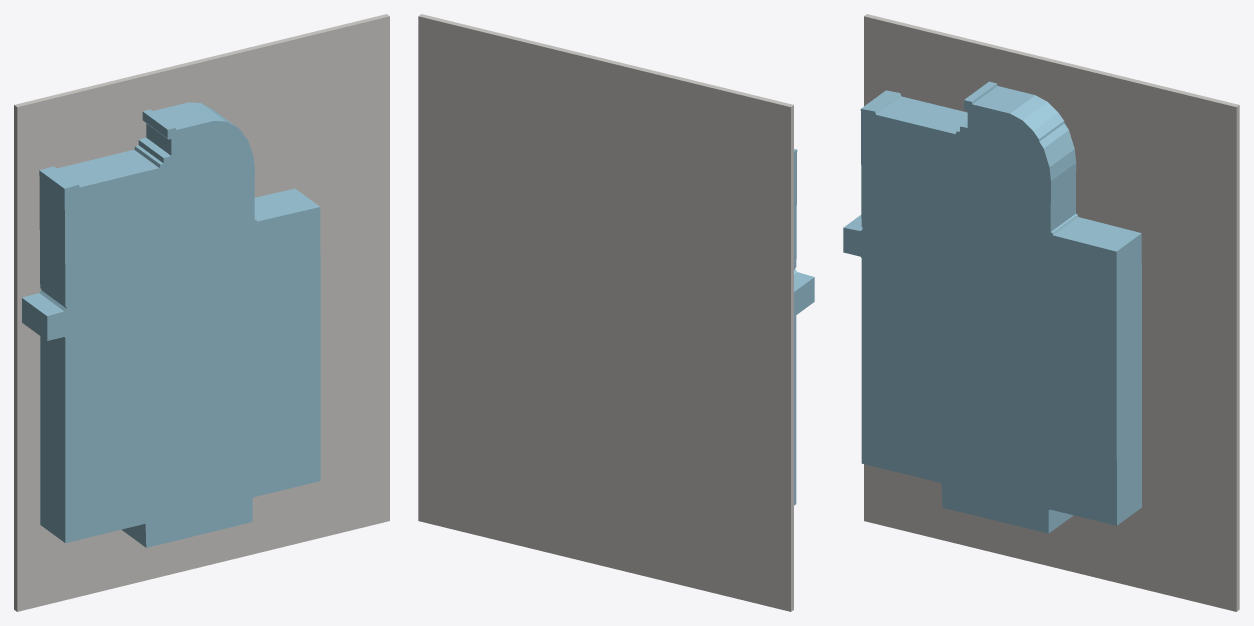
The picture shows the model from 3 angles, left to right: view 1: azimuth 30°, elevation 25°; view 2: azimuth 150°, elevation 25°; view 3: azimuth 330°, elevation 25°; orthographic projection.
Visible parts, largest first — view 1: world; view 2: world; view 3: world.
Part boxes in pixels (bbox=[...]): world: bbox=[14, 14, 389, 611]; world: bbox=[418, 14, 814, 611]; world: bbox=[843, 14, 1239, 611].
Size of the model in its own units: 10.23 by 13.24 by 1.35.
